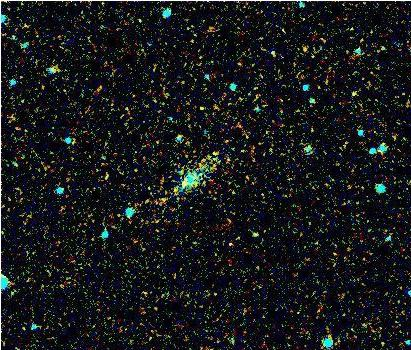star: (199, 140, 229, 170)
